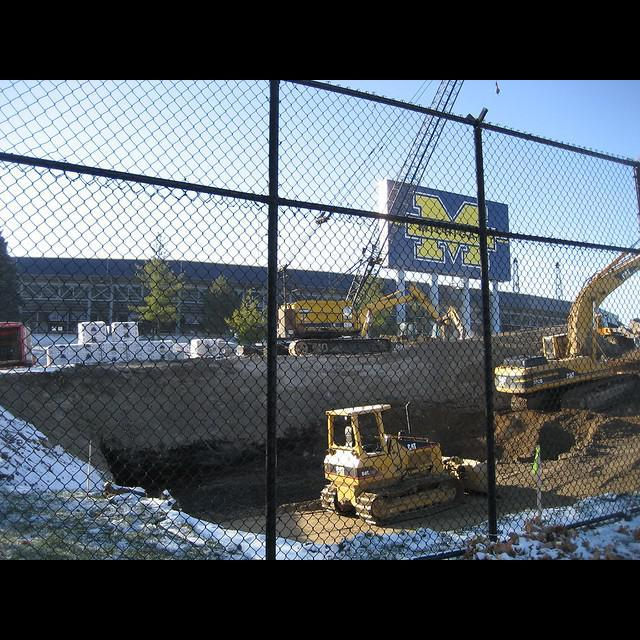Excavator: (489, 239, 639, 418), (282, 283, 467, 356)
wheel loader: (324, 402, 490, 525)
